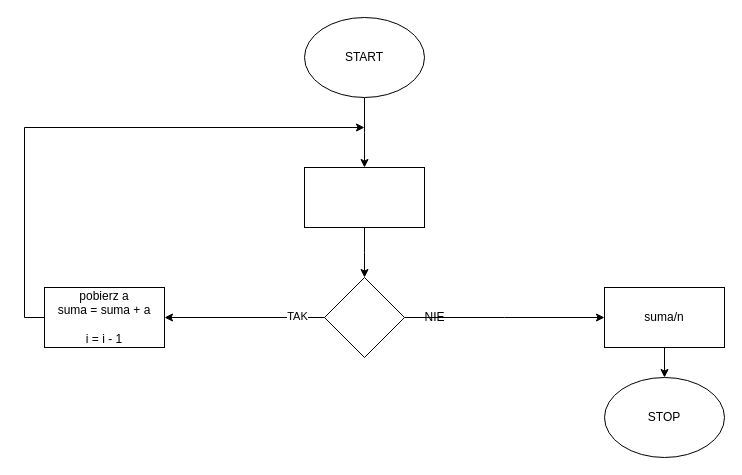
This 742x475 diagram has some shape labels left out. Here are the shapes that lost their labels. From the top down, the centre of each, then its label:
At (364,197): "pobierz liczba_ocen i = liczba_ocen suma = 0".
At (364,317): "i > 0".
